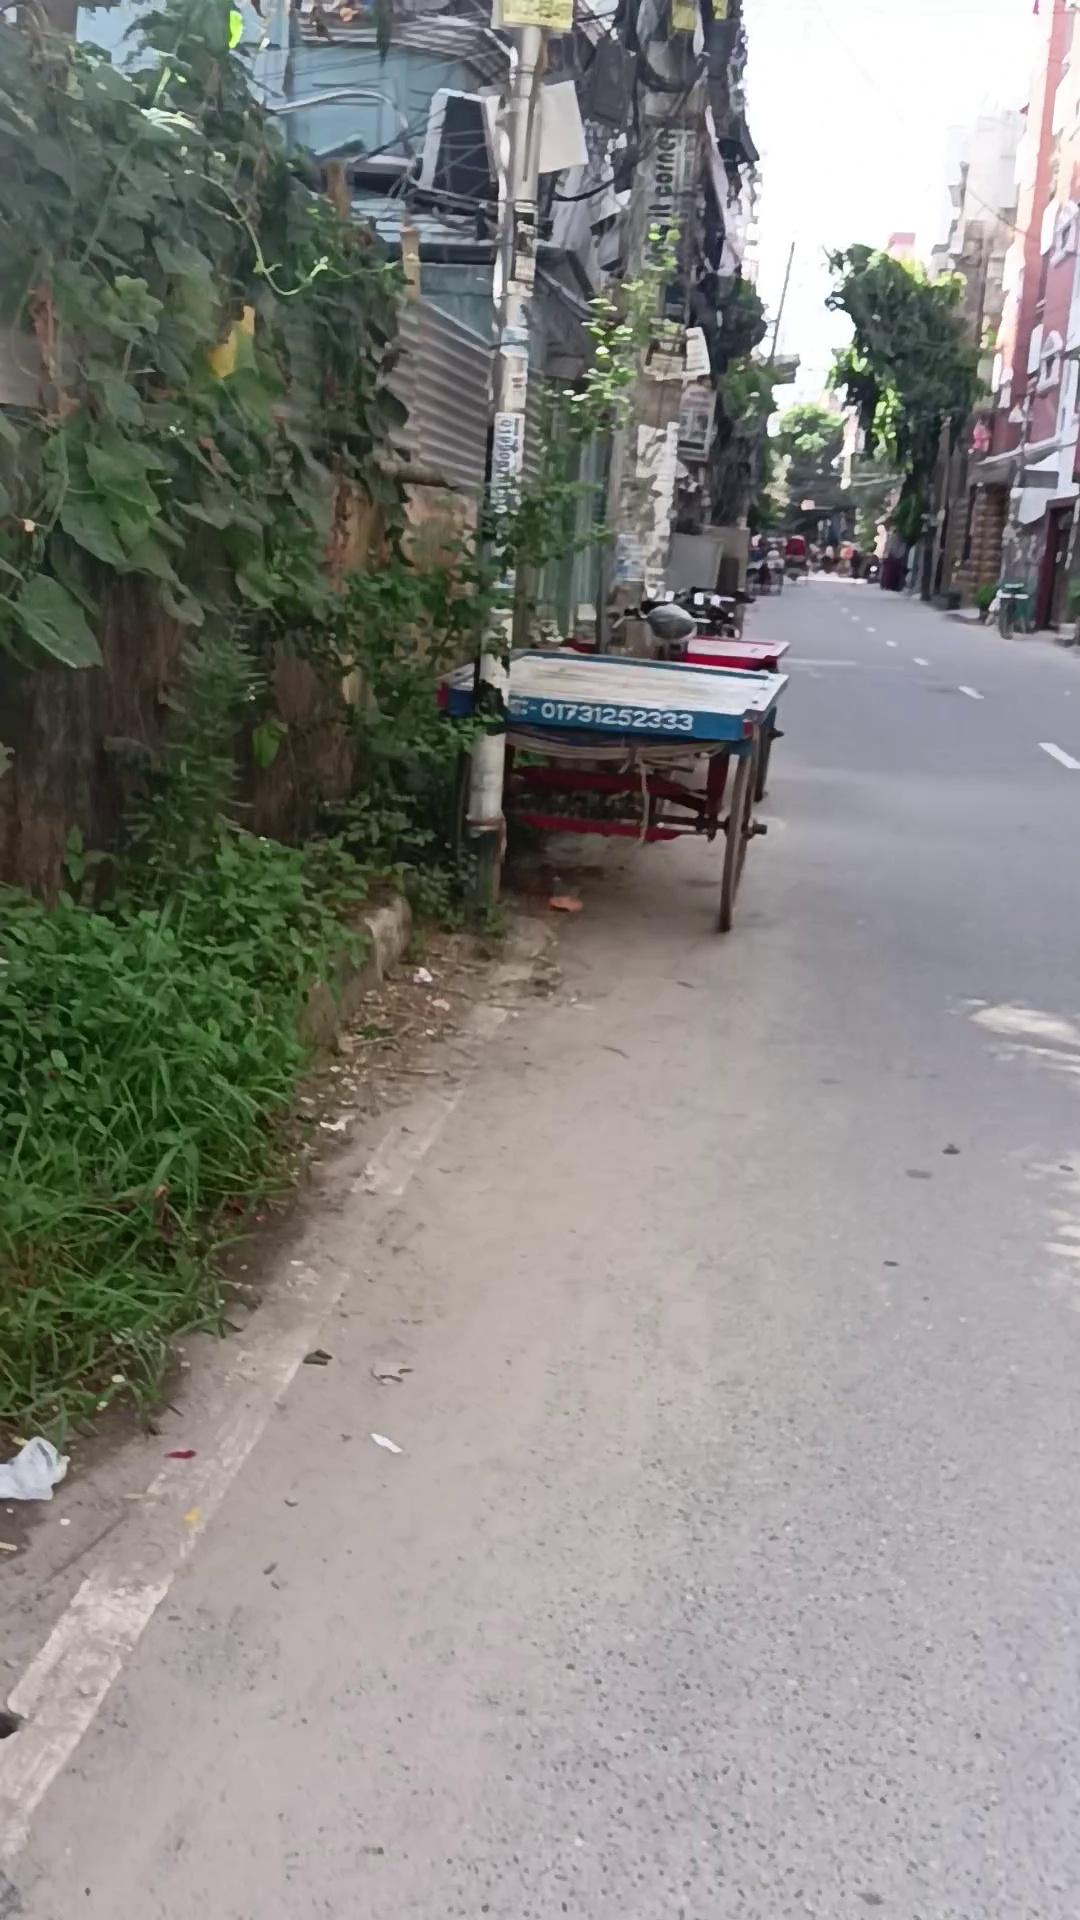Dog: (458, 17, 551, 918)
Fence: (435, 638, 790, 934)
Light-pole: (0, 1, 433, 920), (819, 240, 992, 568)
